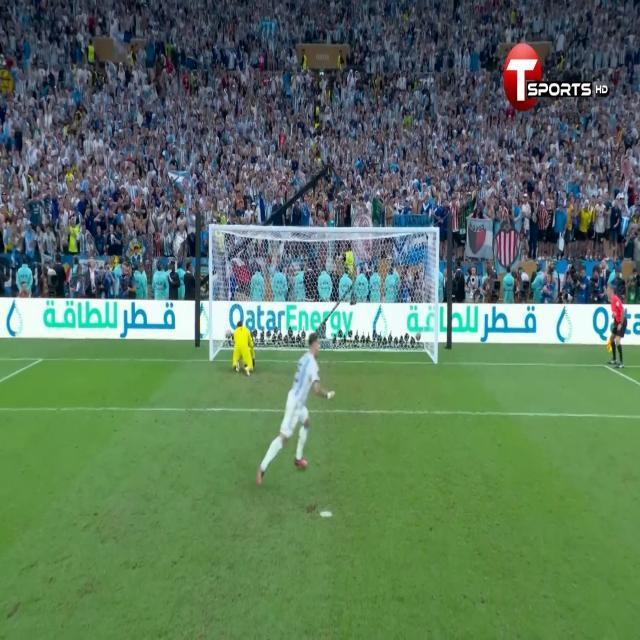goalkeeper: (229, 315, 258, 379)
player: (258, 323, 340, 480)
referee: (598, 274, 629, 381)
